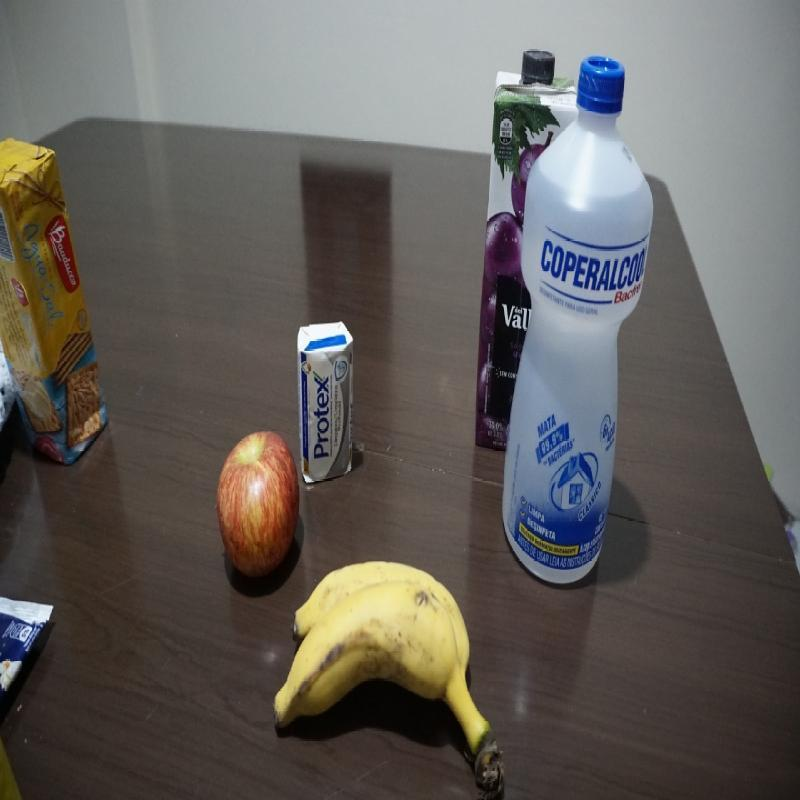Alcohol Bottle: (501, 54, 655, 593)
Apple: (214, 429, 302, 580)
Banana: (272, 559, 503, 794)
Cracker: (0, 132, 109, 465)
Popcorn: (0, 580, 54, 704)
Soap: (296, 321, 356, 488)
